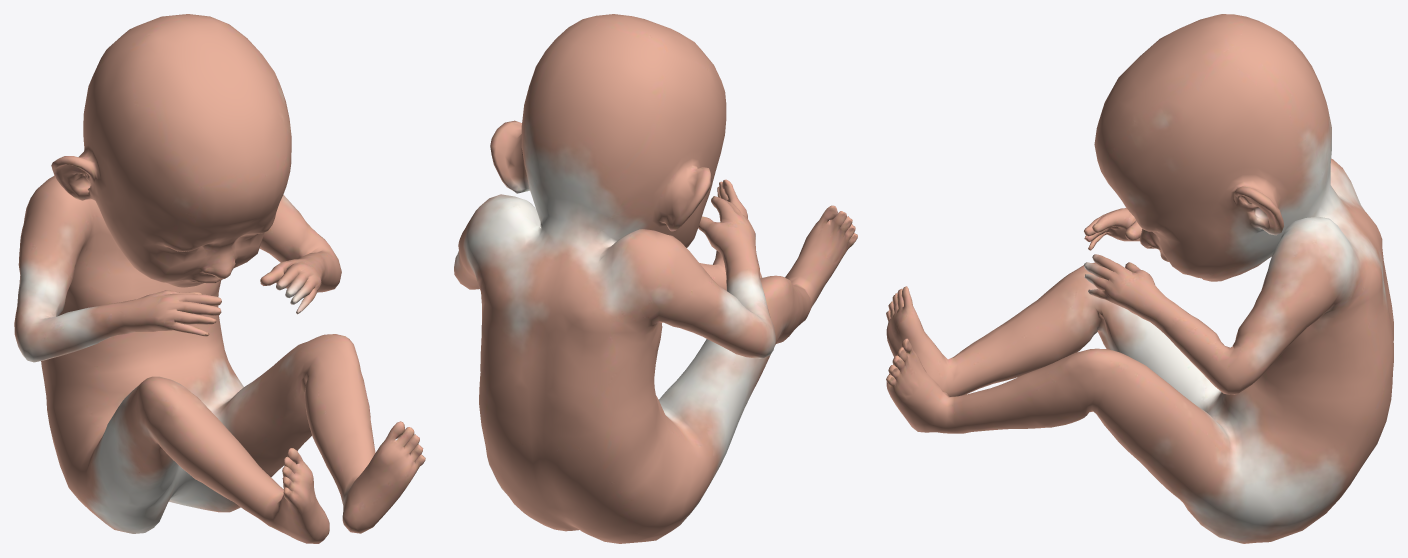
3 views of the same model, side by side, from view 1: azimuth 30°, elevation 25°; view 2: azimuth 150°, elevation 25°; view 3: azimuth 270°, elevation 25° (orthographic).
Parts seen in each view (by area): view 1: Baby; view 2: Baby; view 3: Baby.
Boxes of the visible parts, <box> form: Baby: <box>14,14,425,543</box>; Baby: <box>454,14,857,543</box>; Baby: <box>886,14,1393,543</box>.
Size of the model in its own units: 0.2111 by 0.3196 by 0.2961.
Materials: 1 (1 with a texture image).
